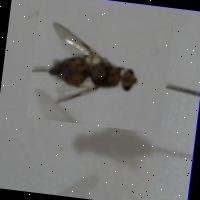Oriental-fruit-fly: (26, 6, 174, 134)
